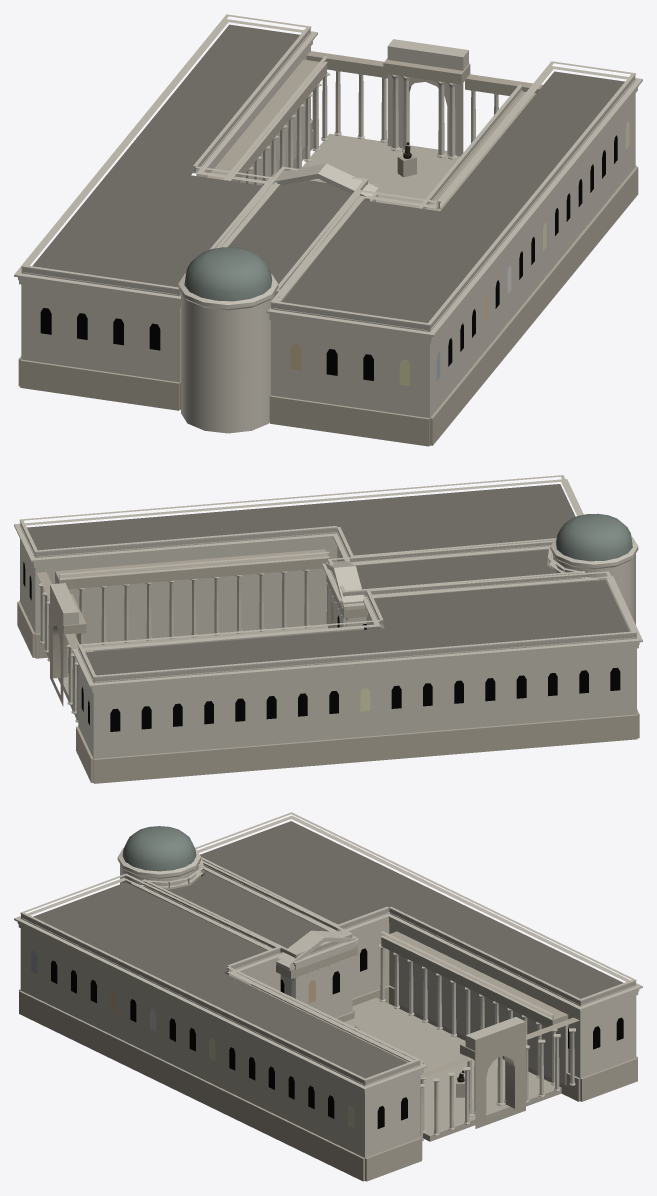
File: legion_lod1.glb
The picture shows the model from 3 angles, top to bottom: view 1: azimuth 30°, elevation 25°; view 2: azimuth 150°, elevation 25°; view 3: azimuth 270°, elevation 25°; orthographic projection. The views are drawn at different scales.
Visible parts, largest first — view 1: L1_stone, L1_roof, L1_paving, L1_metal; view 2: L1_stone, L1_roof, L1_metal, L1_paving; view 3: L1_stone, L1_roof, L1_paving, L1_metal.
Part boxes in pixels (<box>): L1_stone: <box>14,14,642,446</box>; L1_roof: <box>32,24,624,322</box>; L1_paving: <box>302,133,459,207</box>; L1_metal: <box>184,142,411,301</box>; L1_stone: <box>14,475,642,783</box>; L1_roof: <box>27,484,629,675</box>; L1_metal: <box>556,513,632,561</box>; L1_paving: <box>46,625,327,718</box>; L1_stone: <box>14,812,642,1181</box>; L1_roof: <box>33,821,623,1078</box>; L1_paving: <box>344,997,561,1141</box>; L1_metal: <box>122,826,464,1082</box>.
Size of the model in its own units: 109 by 24.4 by 106.
